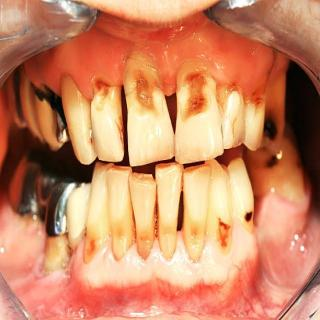LL1BC_sdecay: (227, 158, 254, 229)
LLCI_mdecay: (155, 163, 182, 260)
LLC_mdecay: (205, 159, 233, 249)
LLLI_mdecay: (183, 166, 207, 261)
LR1BC_sdecay: (66, 182, 89, 251)
LRCI_mdecay: (129, 172, 156, 253)
LRC_mdecay: (84, 163, 113, 262)
LRLI_mdecay: (105, 167, 133, 258)
ULCI_sdecay: (176, 62, 224, 164)
ULC_sdecay: (244, 94, 265, 150)
ULLI_sdecay: (218, 84, 246, 149)
URCI_sdecay: (123, 51, 176, 166)
URC_sdecay: (59, 74, 96, 164)
URLI_sdecay: (90, 77, 124, 161)
